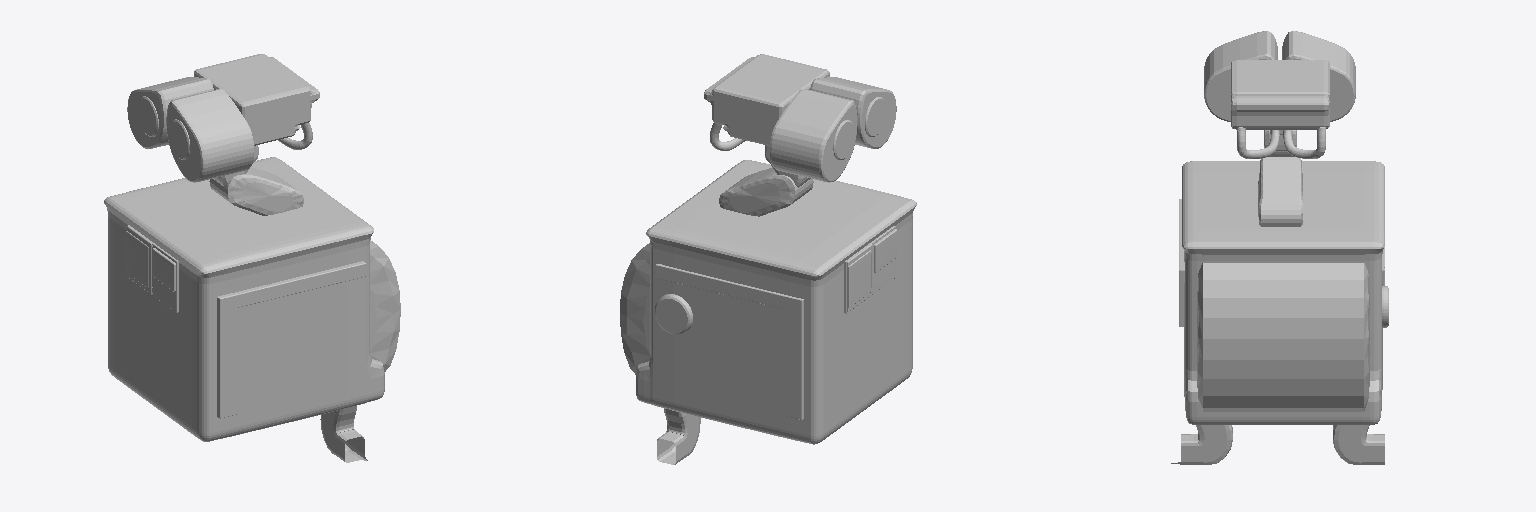
File: Wall-E.obj
The picture shows the model from 3 angles: view 1: azimuth 30°, elevation 25°; view 2: azimuth 150°, elevation 25°; view 3: azimuth 270°, elevation 25°; orthographic projection.
Parts seen in each view (by area): view 1: Wall-E.001; view 2: Wall-E.001; view 3: Wall-E.001.
Boxes of the visible parts, x1=… form: Wall-E.001: x1=104, y1=54, x2=400, y2=462; Wall-E.001: x1=620, y1=54, x2=916, y2=464; Wall-E.001: x1=1171, y1=31, x2=1388, y2=464.
Bounding box in the file's own units: 11.39 × 18.64 × 10.11.